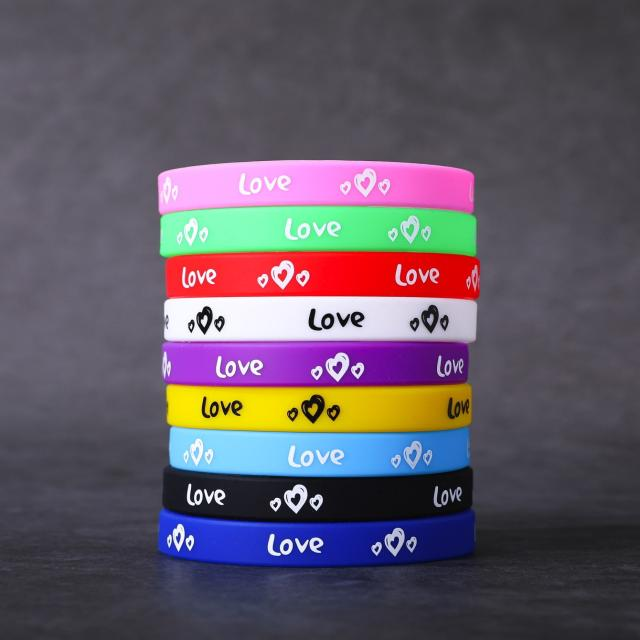bracelet: (59, 126, 548, 589)
